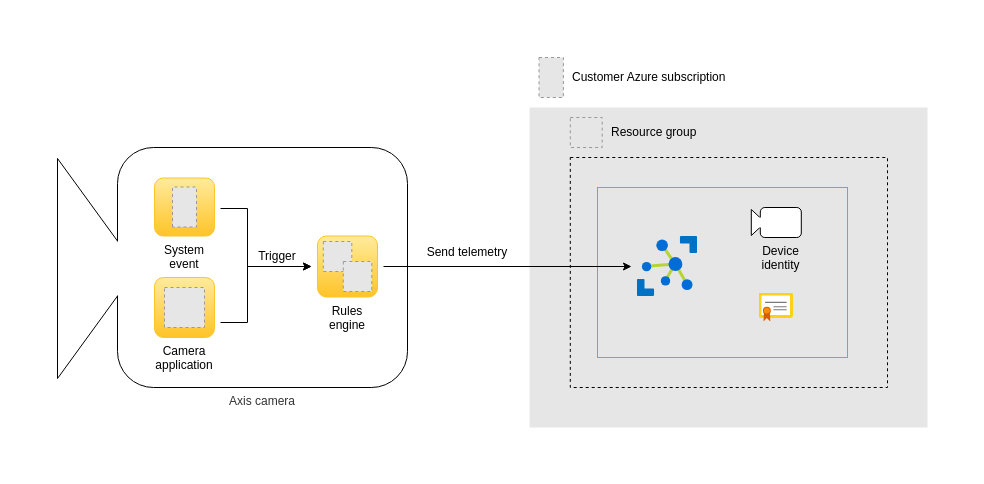
This 984x484 diagram has some shape labels left out. Grey dashed boxes stand in for pictures. The centre of each missing label's shape, as x and y in pixels:
CA certificate: pixel 775 307
IoT Hub: pixel 667 266
